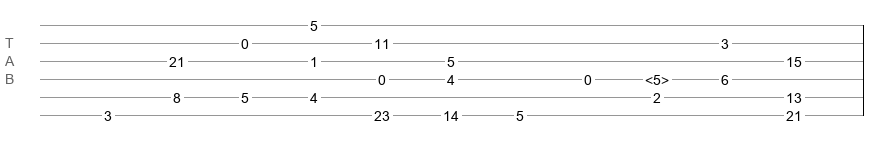0: (241, 36, 249, 46), (378, 72, 386, 82), (584, 72, 592, 82)
1: (310, 54, 318, 64)
11: (374, 36, 390, 46)
13: (786, 90, 802, 100)
14: (443, 108, 459, 118)
15: (786, 54, 802, 64)
2: (653, 90, 661, 100)
21: (169, 54, 185, 64), (786, 108, 802, 118)
23: (374, 108, 390, 118)
3: (104, 108, 112, 118), (721, 36, 729, 46)
4: (310, 90, 318, 100), (447, 72, 455, 82)
5: (241, 90, 249, 100), (310, 18, 318, 28), (447, 54, 455, 64), (516, 108, 524, 118)
6: (721, 72, 729, 82)
8: (173, 90, 181, 100)
harmonic: (645, 72, 669, 82)
